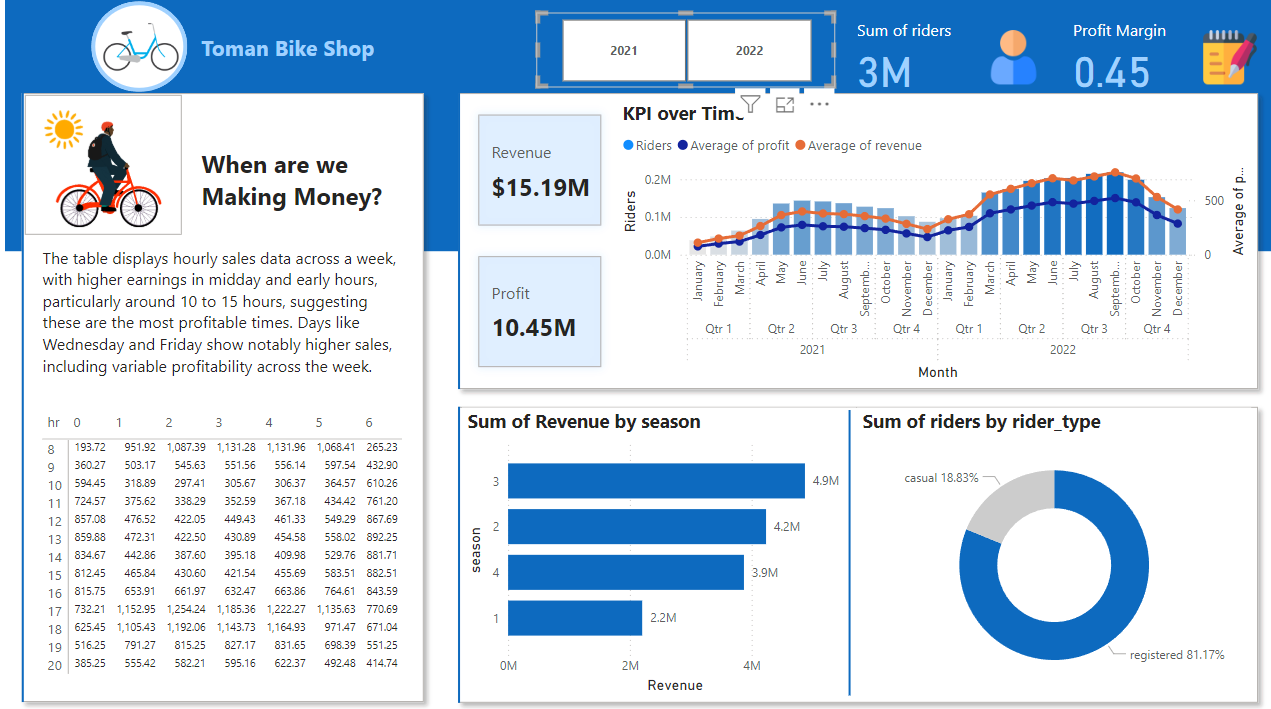

The page's visual inventory and layout, read from the dashboard file:
{"tool":"powerbi","page":{"name":"Dashboard","canvas":[1280,720],"ordinal":0},"visuals":[{"type":"shape","box":[9.6,0,1270.7,251.1],"z":0},{"type":"cardVisual","fields":{"Data":["Min(Query1.riders)"]},"box":[9.6,76.8,436.4,643.6],"z":1000},{"type":"cardVisual","fields":{"Data":["Min(Query1.riders)"]},"box":[446,76.8,834.3,330.7],"z":2000},{"type":"cardVisual","fields":{"Data":["Min(Query1.riders)"]},"box":[446,389.7,834.3,330.7],"z":3000},{"type":"cardVisual","fields":{"Data":["Min(Query1.riders)"]},"box":[24.7,90.6,167.4,150.9],"z":4000},{"type":"pivotTable","fields":{"Values":["Avg(Query1.revenue)"],"Columns":["Query1.weekday"],"Rows":["Query1.hr"]},"box":[42.5,407.5,371.9,279.9],"z":5000},{"type":"textbox","box":[201.7,142.7,212.7,82.3],"z":6000},{"type":"textbox","box":[42.5,241.5,371.9,148.2],"z":7000},{"type":"lineClusteredColumnComboChart","title":"KPI over Time","fields":{"Category":["Query1.dteday.Variation.Date Hierarchy.Year","Query1.dteday.Variation.Date Hierarchy.Quarter","Query1.dteday.Variation.Date Hierarchy.Month","Query1.dteday.Variation.Date Hierarchy.Day"],"Y":["Sum(Query1.riders)"],"Y2":["Avg(Query1.profit)","Avg(Query1.revenue)"]},"box":[623,100.2,634,285.4],"z":7001},{"type":"clusteredBarChart","title":"Sum of Revenue by season","fields":{"Category":["Query1.season"],"Y":["Sum(Query1.revenue)"]},"box":[467.9,407.5,393.8,290.9],"z":7002},{"type":"donutChart","fields":{"Category":["Query1.rider_type"],"Y":["Sum(Query1.riders)"]},"box":[863.1,407.5,393.8,290.9],"z":7003},{"type":"shape","box":[705,410,299.1,285.4],"z":7004},{"type":"cardVisual","title":"KPI over Time","fields":{"Data":["Sum(Query1.revenue)","Sum(Query1.profit)"]},"box":[467.9,98.8,155.1,285.4],"z":7005},{"type":"cardVisual","fields":{"Data":["Sum(Query1.riders)","Query1.Profit Margin"]},"box":[845.3,1.4,435,97.4],"z":7006},{"type":"shape","box":[96.1,1.4,96.1,90.6],"z":7007},{"type":"image","box":[100.2,0,91.9,93.3],"z":7008},{"type":"textbox","box":[201.7,27.4,189.4,49.4],"z":7009},{"type":"slicer","fields":{"Values":["Query1.Year"]},"box":[540.7,12.3,299.1,75.5],"z":7010}]}

Visuals, with their boxes in screenshot pixels (x1, y1, x2, y2), scaled from the page's 1280x720 canvas onto the 1271x709 screenshot:
shape: select_region(10, 0, 1270, 247)
cardVisual - Min(Query1.riders): select_region(10, 76, 443, 708)
cardVisual - Min(Query1.riders): select_region(443, 76, 1270, 401)
cardVisual - Min(Query1.riders): select_region(443, 384, 1270, 708)
cardVisual - Min(Query1.riders): select_region(25, 89, 191, 238)
pivotTable - Avg(Query1.revenue) x Query1.weekday: select_region(42, 401, 411, 677)
textbox: select_region(200, 141, 411, 222)
textbox: select_region(42, 238, 411, 384)
"KPI over Time" lineClusteredColumnComboChart: select_region(619, 99, 1248, 380)
"Sum of Revenue by season" clusteredBarChart: select_region(465, 401, 856, 688)
donutChart - Query1.rider_type x Sum(Query1.riders): select_region(857, 401, 1248, 688)
shape: select_region(700, 404, 997, 685)
"KPI over Time" cardVisual: select_region(465, 97, 619, 378)
cardVisual - Sum(Query1.riders) x Query1.Profit Margin: select_region(839, 1, 1270, 97)
shape: select_region(95, 1, 191, 91)
image: select_region(99, 0, 191, 92)
textbox: select_region(200, 27, 388, 76)
slicer - Query1.Year: select_region(537, 12, 834, 86)
